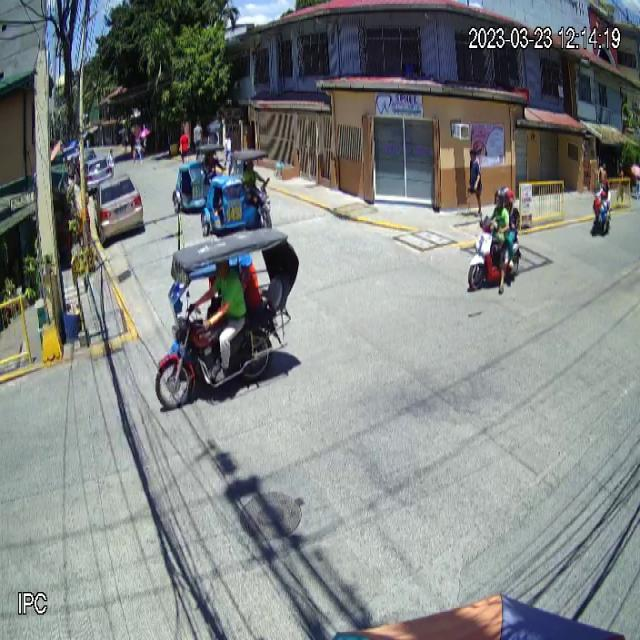Tricycle: (155, 226, 289, 410), (200, 147, 276, 237)
